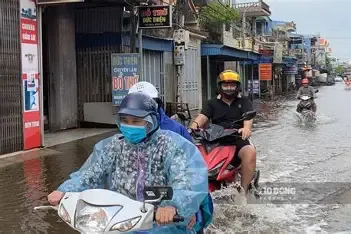ROAD_FLOODING: (4, 100, 347, 234)
